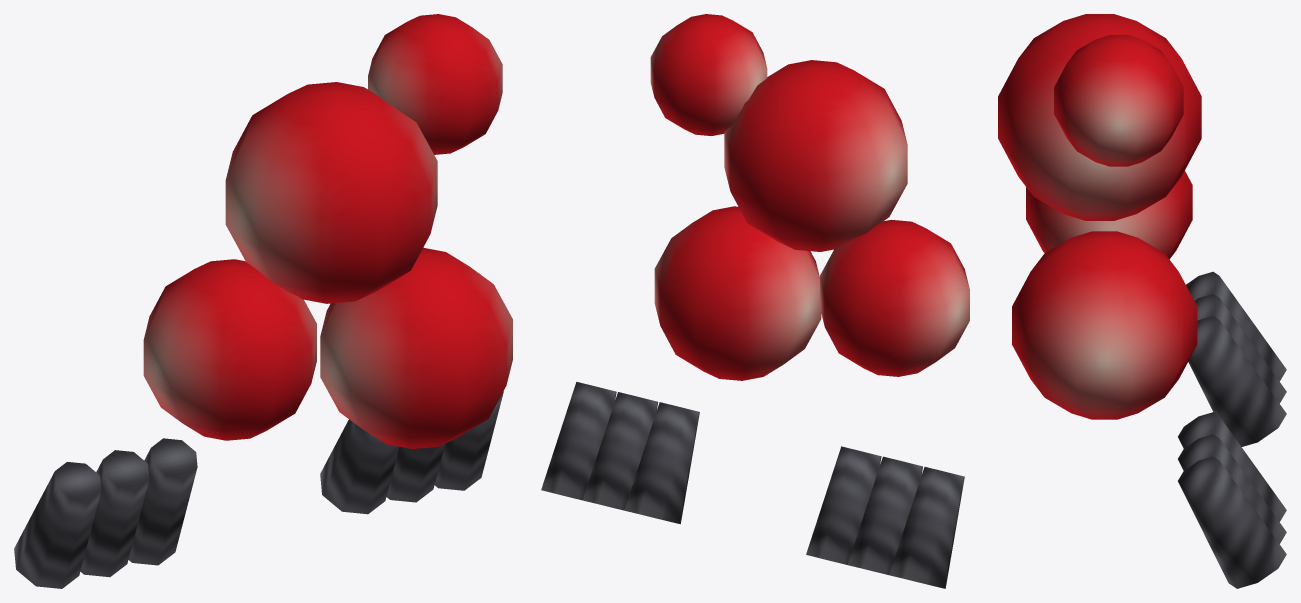
File: parasite_brute_hive.obj
3 views of the same model, side by side, from view 1: azimuth 30°, elevation 25°; view 2: azimuth 150°, elevation 25°; view 3: azimuth 270°, elevation 25° (orthographic). The views are drawn at different scales.
Parts seen in each view (by area): view 1: brute_hive; view 2: brute_hive; view 3: brute_hive.
Part boxes in pixels (x1,y1,x2,y2): brute_hive: [14, 14, 512, 588]; brute_hive: [541, 14, 969, 588]; brute_hive: [998, 14, 1286, 588].
Size of the model in its own units: 0.6624 by 0.7298 by 0.3801.
